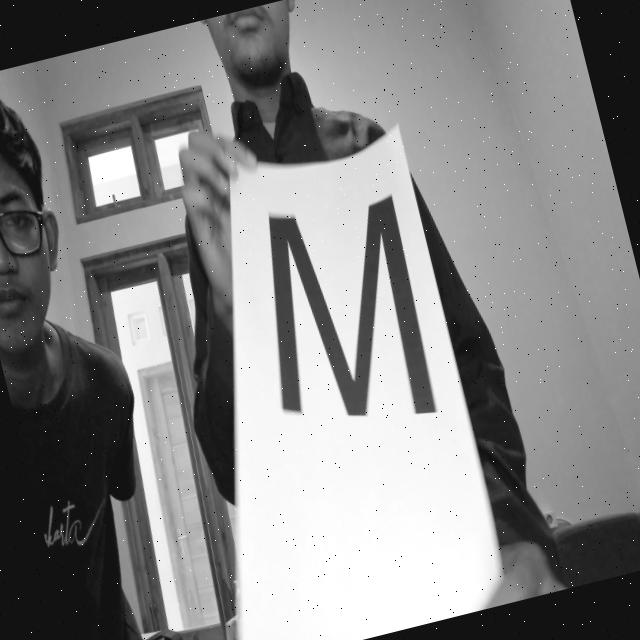m: (213, 137, 477, 494)
